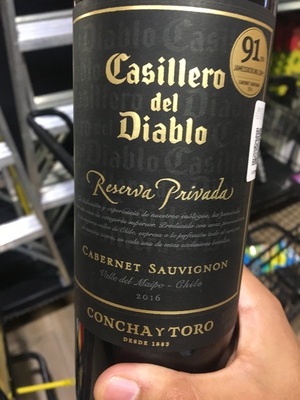casillero del diablo reserva privada cabernet sauvignon: (68, 5, 278, 396)
